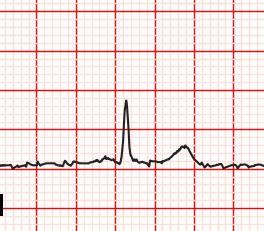LVH: (157, 141, 205, 170)
